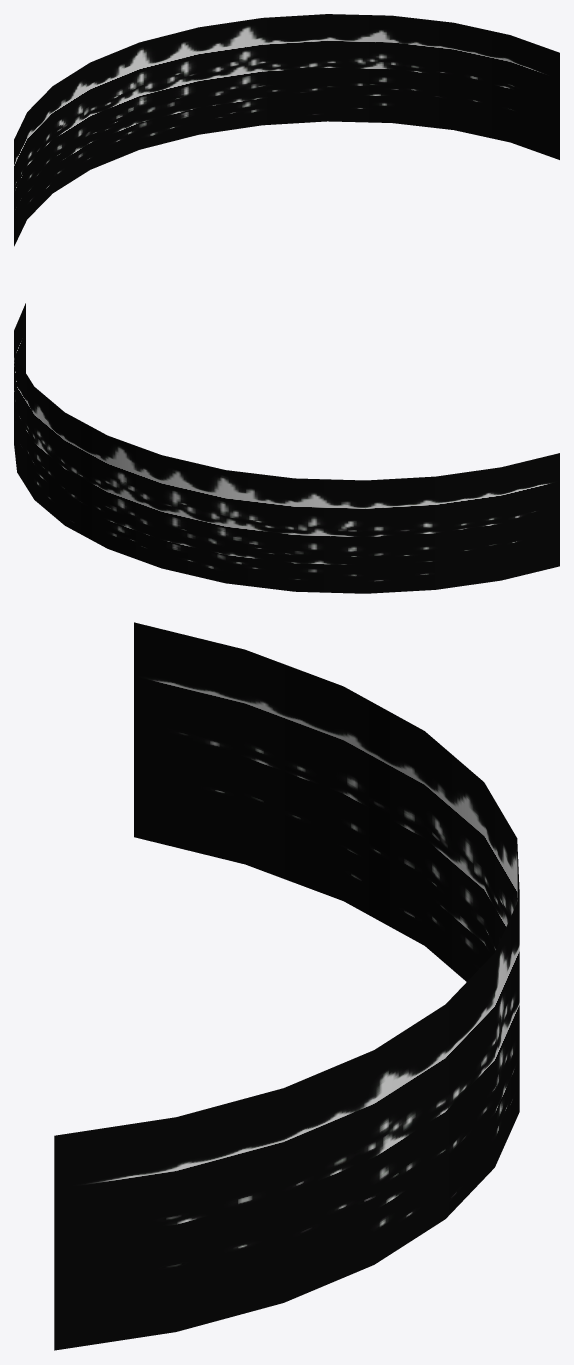
Rendered from Mesh_banyuan_005.FBX.
3 renders of one model, top to bottom at view 1: azimuth 30°, elevation 25°; view 2: azimuth 150°, elevation 25°; view 3: azimuth 270°, elevation 25°, orthographic. The views are drawn at different scales.
Visible parts, largest first — view 1: Mesh_banyuan_005; view 2: Mesh_banyuan_005; view 3: Mesh_banyuan_005.
Part boxes in pixels (x1=…): Mesh_banyuan_005: x1=14, y1=14, x2=559, y2=246; Mesh_banyuan_005: x1=14, y1=303, x2=559, y2=593; Mesh_banyuan_005: x1=54, y1=622, x2=519, y2=1350.
Size of the model in its own units: 42.71 by 8.34 by 16.37.
Materials: 1 (1 with a texture image).
